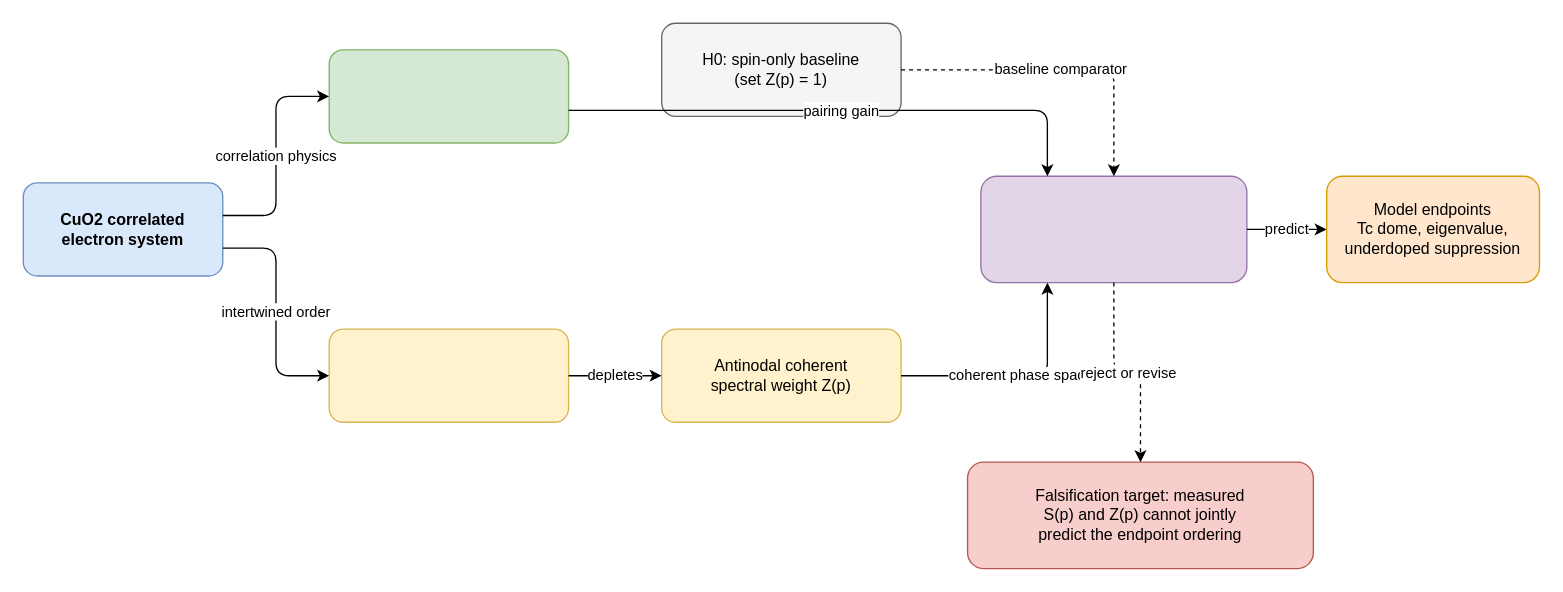
Some shapes in this 1563 by 592 pixel diagram are drawn without their labels. The shapes that lost their labels are listed below. From the top down, each one's centre as x and y in pixels, then its label:
the point at 448,96: Antiferromagnetic spin spectral support S(p)
the point at 1113,229: d-wave pairing kernel lambda_d(p) = lambda0 S(p) Z(p)
the point at 448,375: Charge order / pseudogap channel
